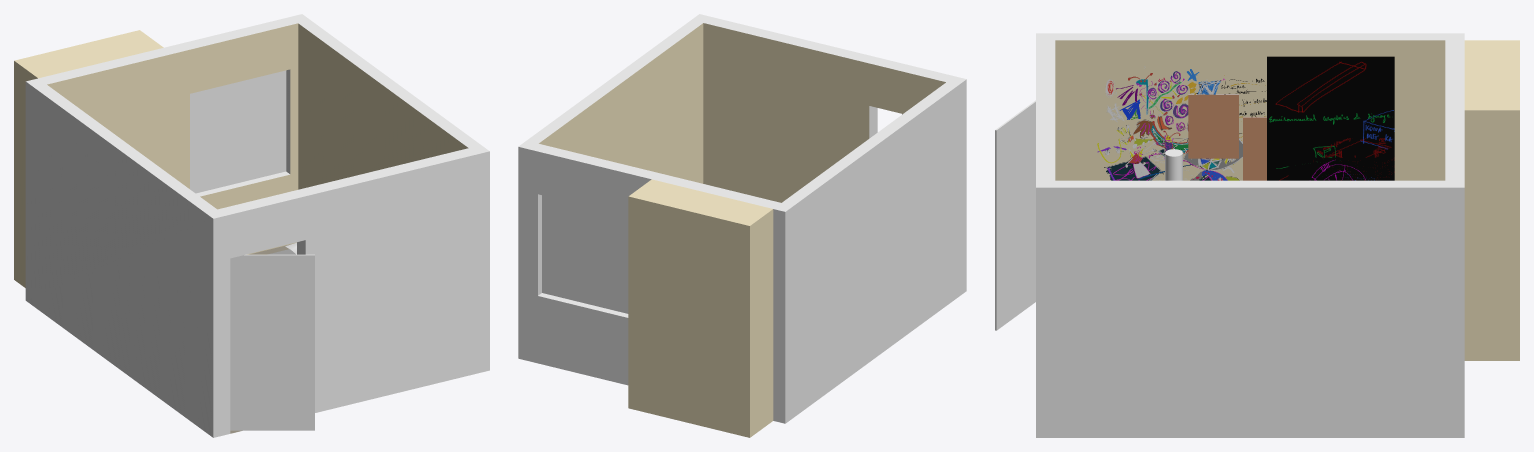
File: room.obj
The picture shows the model from 3 angles, left to right: view 1: azimuth 30°, elevation 25°; view 2: azimuth 150°, elevation 25°; view 3: azimuth 270°, elevation 25°; orthographic projection. The views are drawn at different scales.
Visible parts, largest first — view 1: Mesh34 Group17 Model, Mesh43 Group22 Model, Mesh1 Group1 Model, Mesh4 Group4 Model, Mesh3 Group3 Model, Mesh2 Group2 Model; view 2: Mesh34 Group17 Model, Mesh1 Group1 Model, Mesh3 Group3 Model, Mesh4 Group4 Model, Mesh2 Group2 Model; view 3: Mesh34 Group17 Model, Mesh1 Group1 Model, Mesh223 Model, Mesh43 Group22 Model, Mesh220 Model, Mesh209 Component_1_1 Model, Mesh222 Model, Mesh210 Component_1_2 Model, Mesh32 Group15 Group11 Model.
Part boxes in pixels (x1,y1,x2,y2): Mesh34 Group17 Model: (25,14,489,437); Mesh43 Group22 Model: (230,254,314,430); Mesh1 Group1 Model: (14,30,163,287); Mesh4 Group4 Model: (252,70,286,179); Mesh3 Group3 Model: (219,78,252,187); Mesh2 Group2 Model: (190,87,218,193); Mesh34 Group17 Model: (518,14,966,423); Mesh1 Group1 Model: (628,179,773,437); Mesh3 Group3 Model: (574,203,606,308); Mesh4 Group4 Model: (542,195,574,300); Mesh2 Group2 Model: (606,211,628,313); Mesh34 Group17 Model: (1036,33,1464,437); Mesh1 Group1 Model: (1464,40,1519,360); Mesh223 Model: (1267,56,1394,180); Mesh43 Group22 Model: (995,100,1035,330); Mesh220 Model: (1097,66,1242,180); Mesh209 Component_1_1 Model: (1188,94,1238,158); Mesh222 Model: (1288,157,1394,180); Mesh210 Component_1_2 Model: (1243,117,1266,180); Mesh32 Group15 Group11 Model: (1165,149,1182,180).
Bounding box in the file's own units: 3300 × 2787 × 4748.
